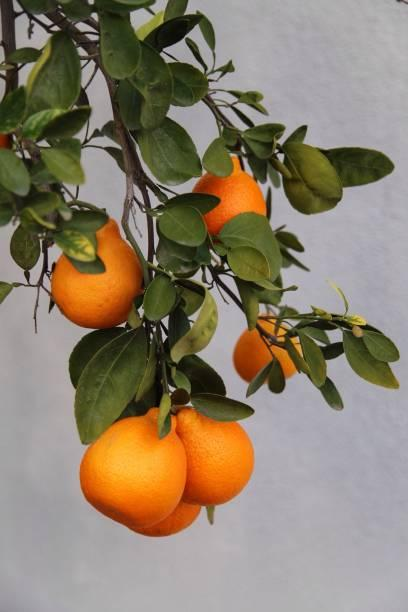orange: (67, 385, 281, 527), (39, 221, 154, 349), (79, 403, 184, 530), (173, 136, 298, 222)
